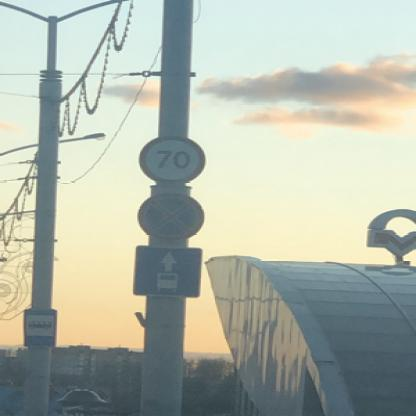Speed Limit 70: (141, 134, 206, 184)
